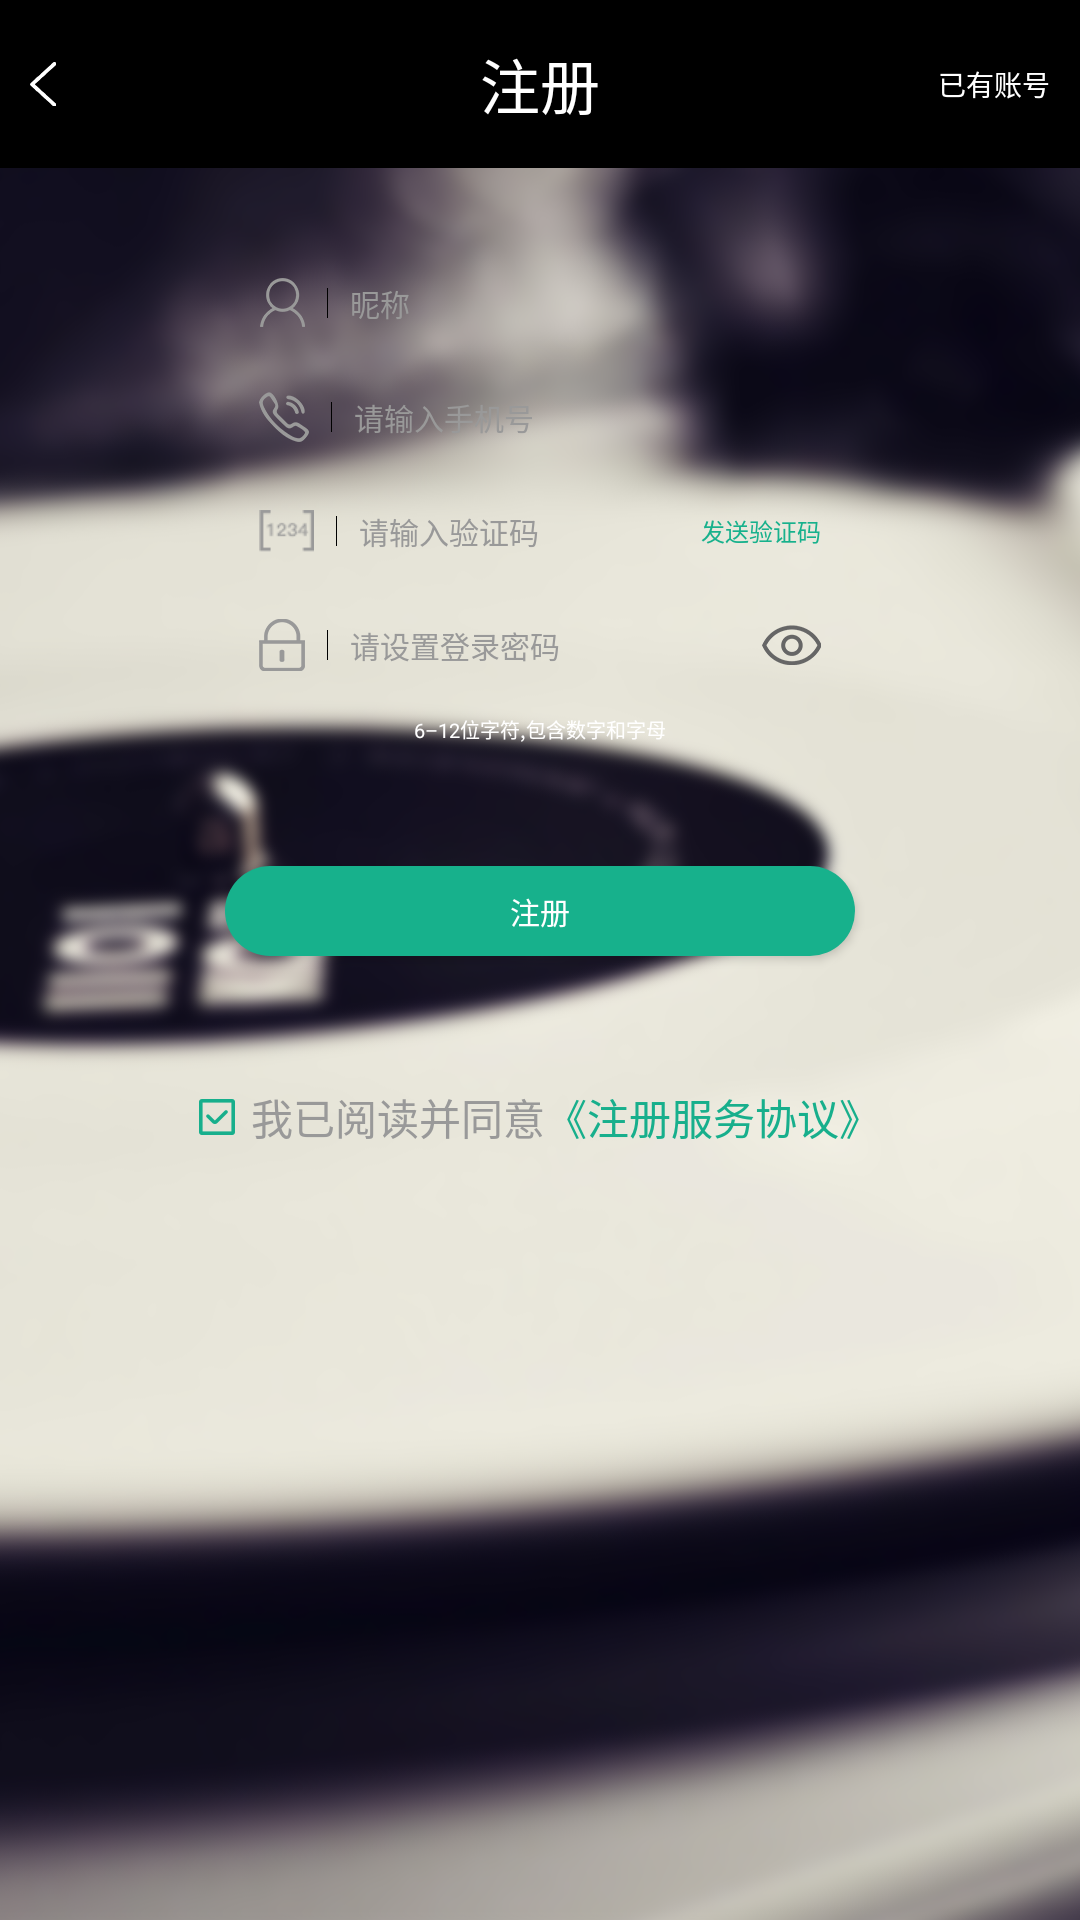

Icon click points for this 1080px x 1920px phone screenshot, format point (x, y):
fanhui: point (43, 84)
mima: point (282, 645)
nicheng: point (282, 302)
shoujihao: point (284, 417)
yanjing: point (791, 645)
yanzhengma: point (286, 530)
